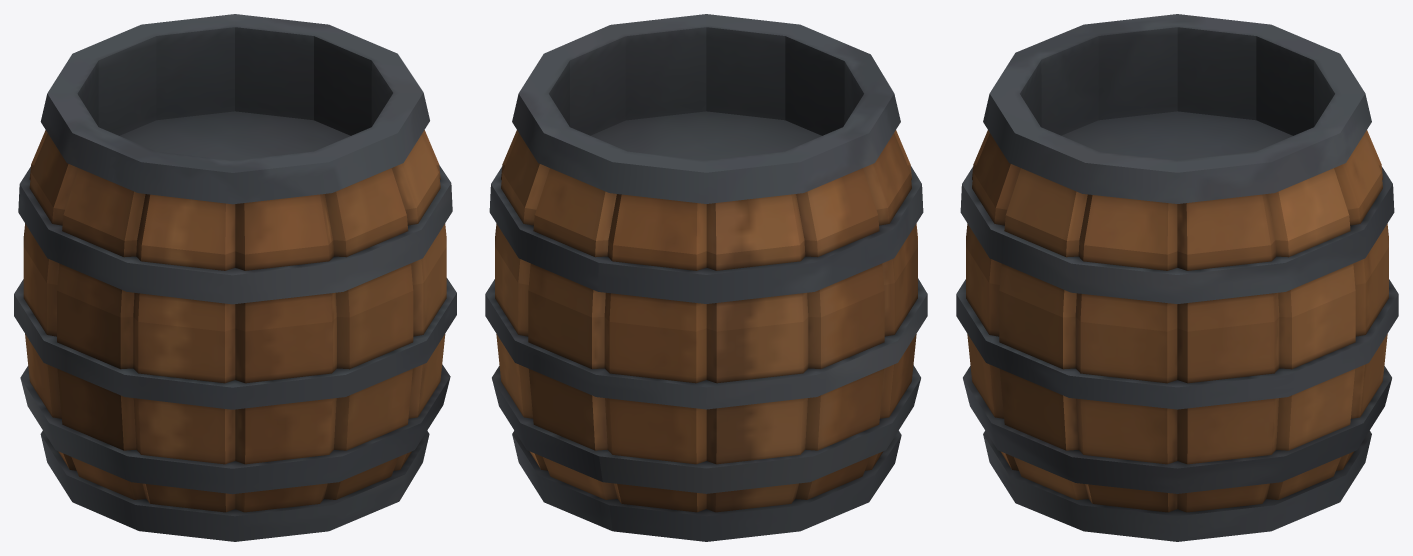
File: Tonneau.FBX
3 renders of one model, left to right at view 1: azimuth 30°, elevation 25°; view 2: azimuth 150°, elevation 25°; view 3: azimuth 270°, elevation 25°, orthographic.
Parts seen in each view (by area): view 1: Tonneau; view 2: Tonneau; view 3: Tonneau.
Part boxes in pixels (x1,y1,x2,y2): Tonneau: [14, 14, 456, 541]; Tonneau: [485, 14, 927, 541]; Tonneau: [956, 14, 1398, 541].
Size of the model in its own units: 2.17 by 2 by 2.17.
